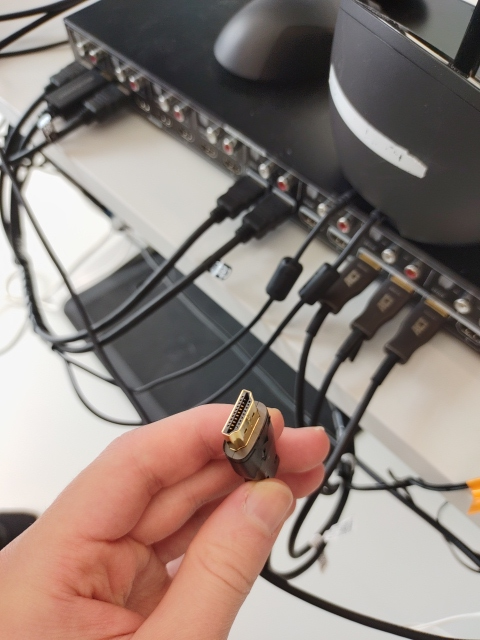HDMI: (221, 388, 259, 451)
